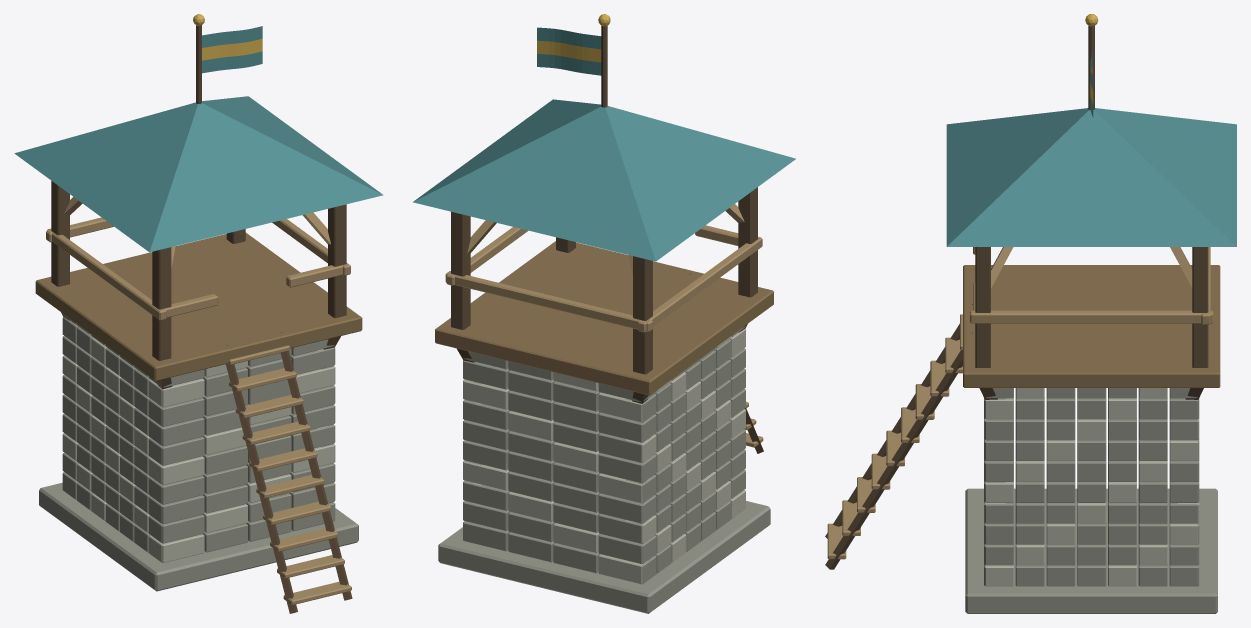
File: watchtower.glb
The picture shows the model from 3 angles, left to right: view 1: azimuth 30°, elevation 25°; view 2: azimuth 150°, elevation 25°; view 3: azimuth 270°, elevation 25°; orthographic projection. The views are drawn at different scales.
Parts seen in each view (by area): view 1: LookoutFrame_mesh, Roof_mesh, AccessLadder_mesh, Foundation_mesh, WallCourse.007_mesh, WallCourse.004_mesh, WallCourse.001_mesh, WallCourse_mesh, WallCourse.003_mesh, WallCourse.008_mesh, WallCourse.005_mesh, WallCourse.006_mesh (+4 smaller); view 2: LookoutFrame_mesh, Roof_mesh, Foundation_mesh, WallCourse.004_mesh, WallCourse.007_mesh, WallCourse_mesh, WallCourse.003_mesh, WallCourse.002_mesh, WallCourse.001_mesh, WallCourse.006_mesh, WallCourse.005_mesh, WallCourse.008_mesh (+3 smaller); view 3: Roof_mesh, LookoutFrame_mesh, Foundation_mesh, AccessLadder_mesh, WallCourse.002_mesh, WallCourse_mesh, WallCourse.001_mesh, WallCourse.007_mesh, WallCourse.008_mesh, WallCourse.003_mesh, WallCourse.004_mesh, WallCourse.005_mesh (+3 smaller).
Part boxes in pixels (x1,y1,x2,y2): LookoutFrame_mesh: (35,181,362,381); Roof_mesh: (14,96,383,252); AccessLadder_mesh: (225,332,352,613); Foundation_mesh: (39,482,358,591); WallCourse.007_mesh: (62,336,335,426); WallCourse.004_mesh: (62,394,335,485); WallCourse.001_mesh: (62,452,335,543); WallCourse_mesh: (62,472,335,562); WallCourse.003_mesh: (62,413,335,504); WallCourse.008_mesh: (62,317,335,407); WallCourse.005_mesh: (62,374,335,465); WallCourse.006_mesh: (62,355,335,446); LookoutFrame_mesh: (435,187,773,395); Roof_mesh: (413,99,795,261); Foundation_mesh: (438,501,770,613); WallCourse.004_mesh: (463,409,745,503); WallCourse.007_mesh: (463,348,745,442); WallCourse_mesh: (463,490,745,584); WallCourse.003_mesh: (463,429,745,523); WallCourse.002_mesh: (463,449,745,543); WallCourse.001_mesh: (463,469,745,563); WallCourse.006_mesh: (463,368,745,462); WallCourse.005_mesh: (463,388,745,483); WallCourse.008_mesh: (463,328,745,422); Roof_mesh: (946,108,1236,246); LookoutFrame_mesh: (963,247,1220,387); Foundation_mesh: (965,488,1217,613); AccessLadder_mesh: (825,304,973,569); WallCourse.002_mesh: (984,523,1199,544); WallCourse_mesh: (984,564,1199,586); WallCourse.001_mesh: (984,544,1199,565); WallCourse.007_mesh: (984,418,1199,440); WallCourse.008_mesh: (984,398,1199,419); WallCourse.003_mesh: (984,502,1199,523); WallCourse.004_mesh: (984,481,1199,502); WallCourse.005_mesh: (984,460,1199,481).
Size of the model in its own units: 3.1 by 6.45 by 4.4.
